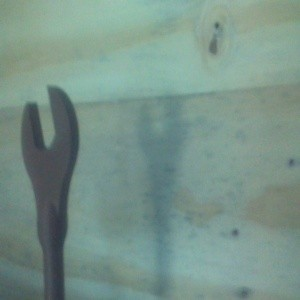spanner: (19, 84, 81, 300)
